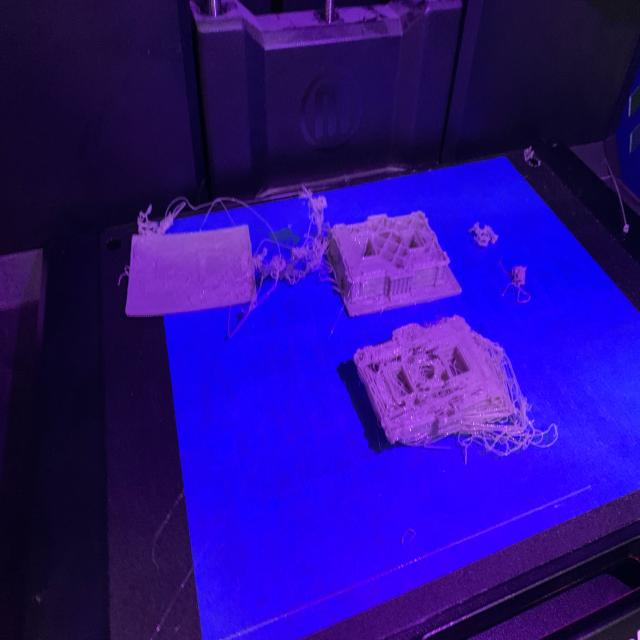spaghetti: (134, 190, 338, 317), (430, 336, 562, 454), (462, 214, 536, 298)
